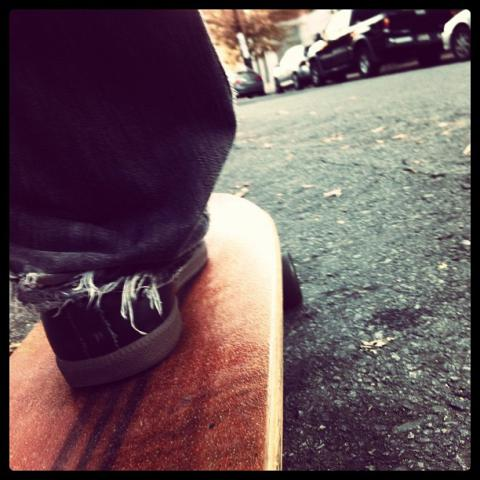car: (307, 7, 457, 86), (273, 44, 313, 95), (441, 9, 471, 61), (234, 69, 267, 99)
